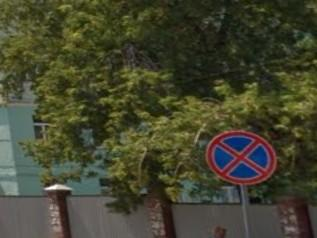No Parking: (206, 131, 277, 186)
